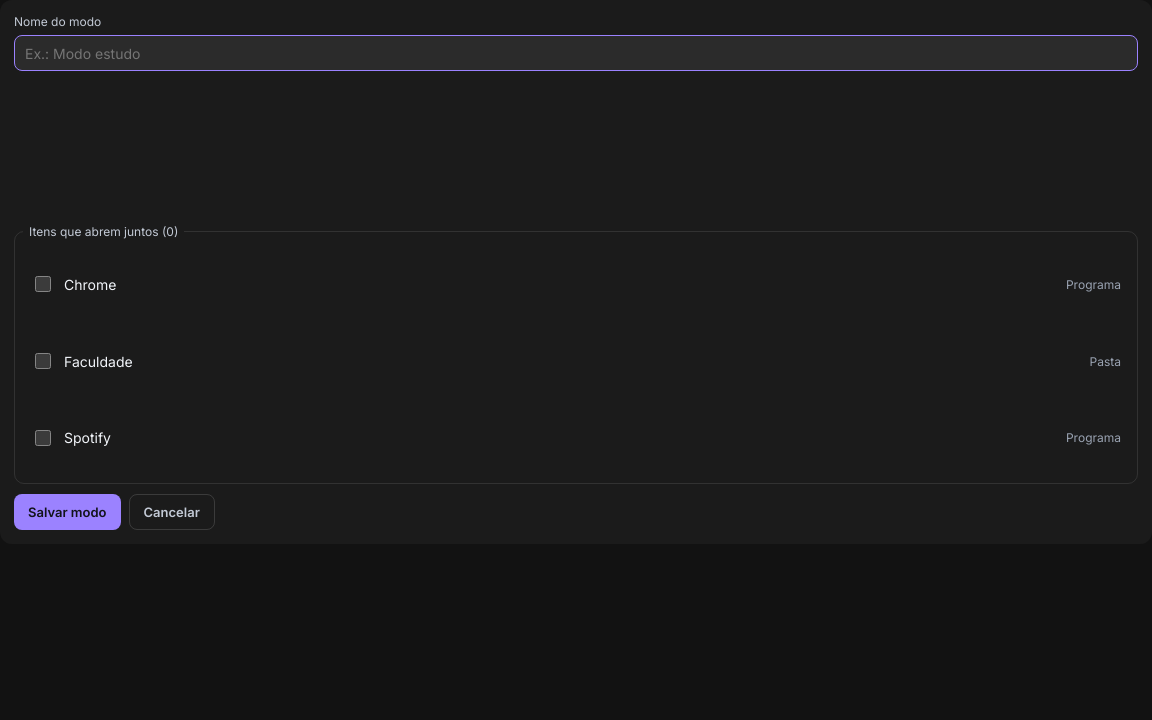
Test: ModeForm › mostra erro do backend
The width and height of the screenshot is (1152, 720).
Step 1. Click the button "Salvar modo" → (67, 512), box [14, 494, 120, 530]
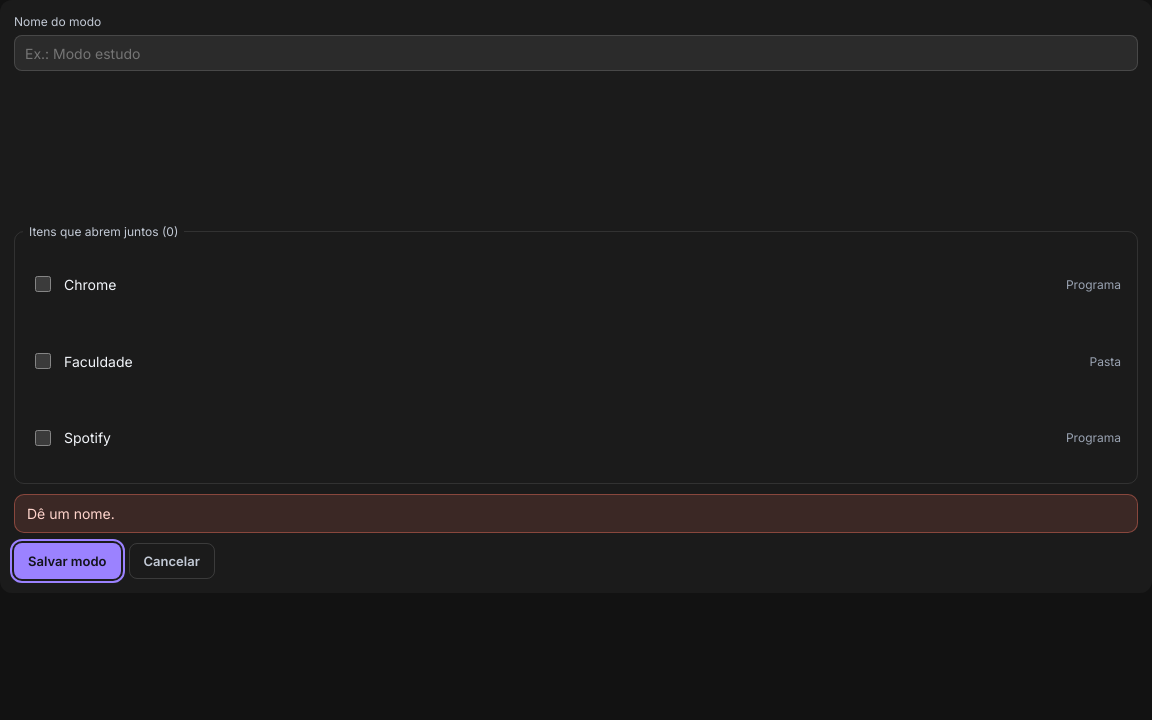
Now the message reads "Dê um nome.", box [27, 505, 115, 522]
